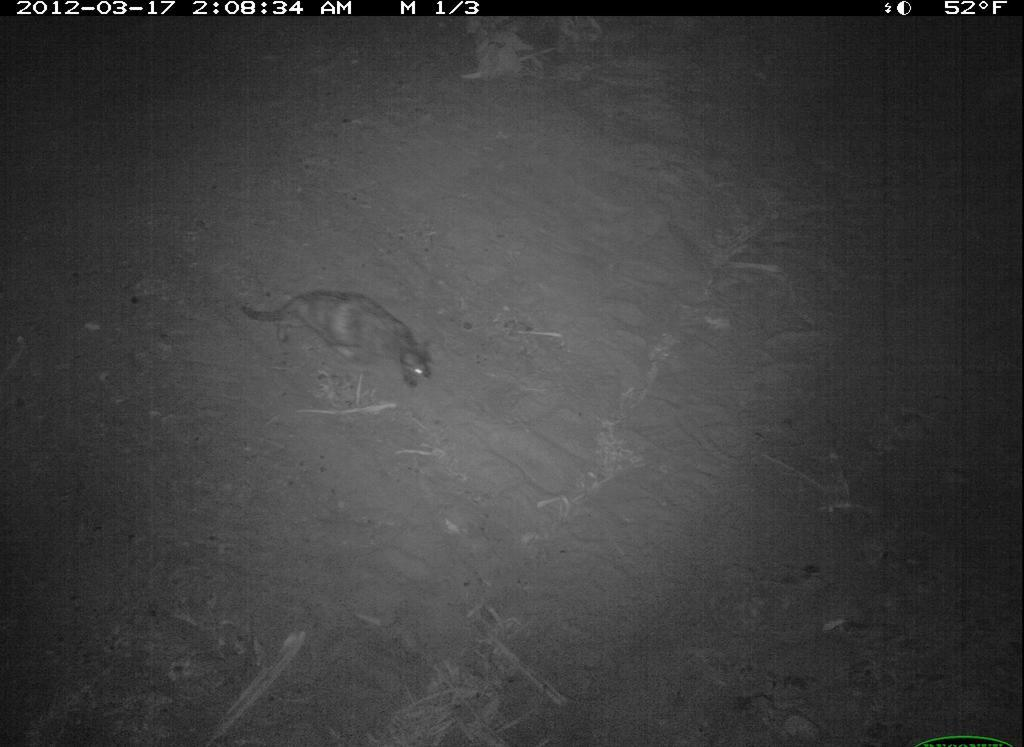cat: (233, 277, 456, 411)
